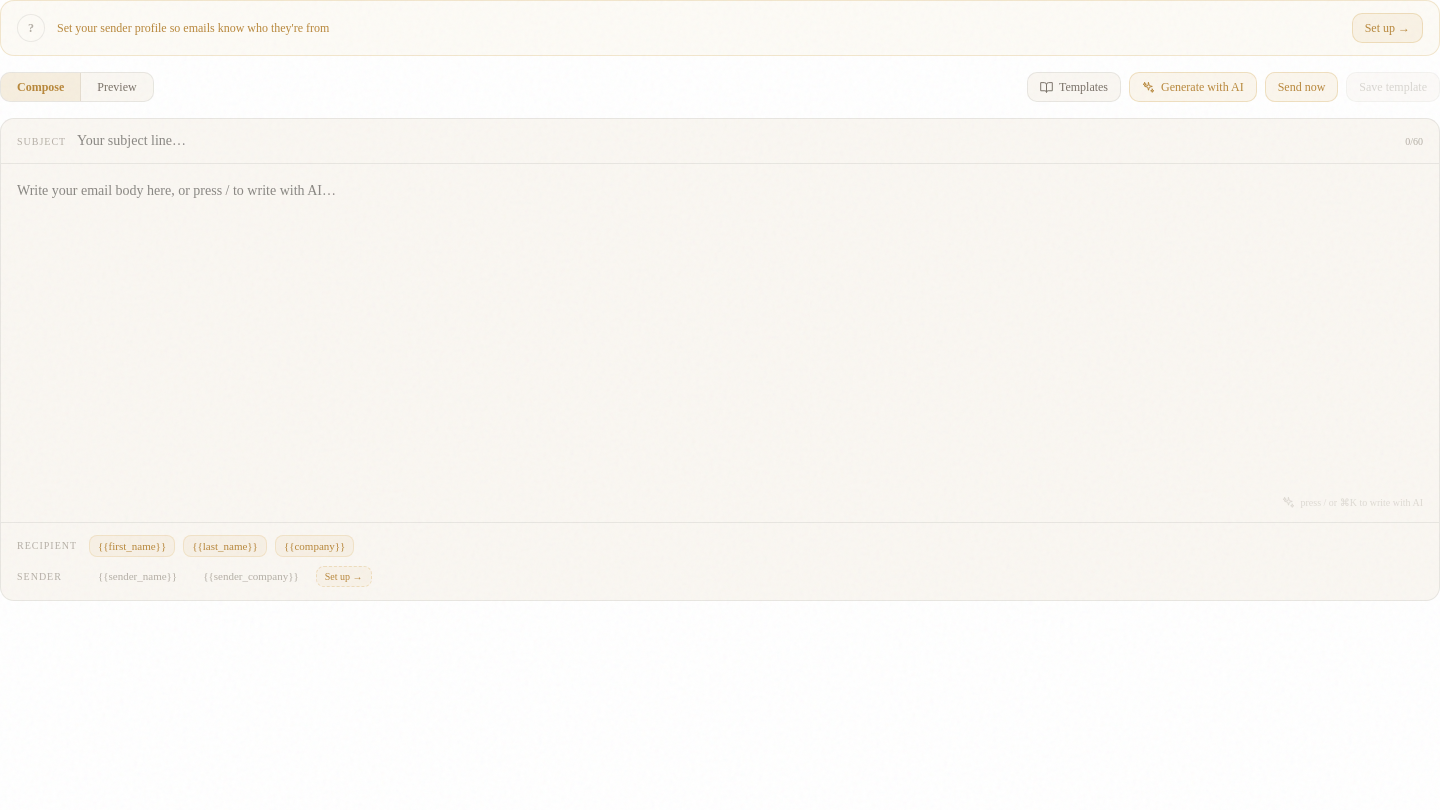
Test: EmailComposer › shows Template saved confirmation after successful save
Step 1. Type "My subject" into the field named "email subject" → (735, 141), box [77, 131, 1393, 151]
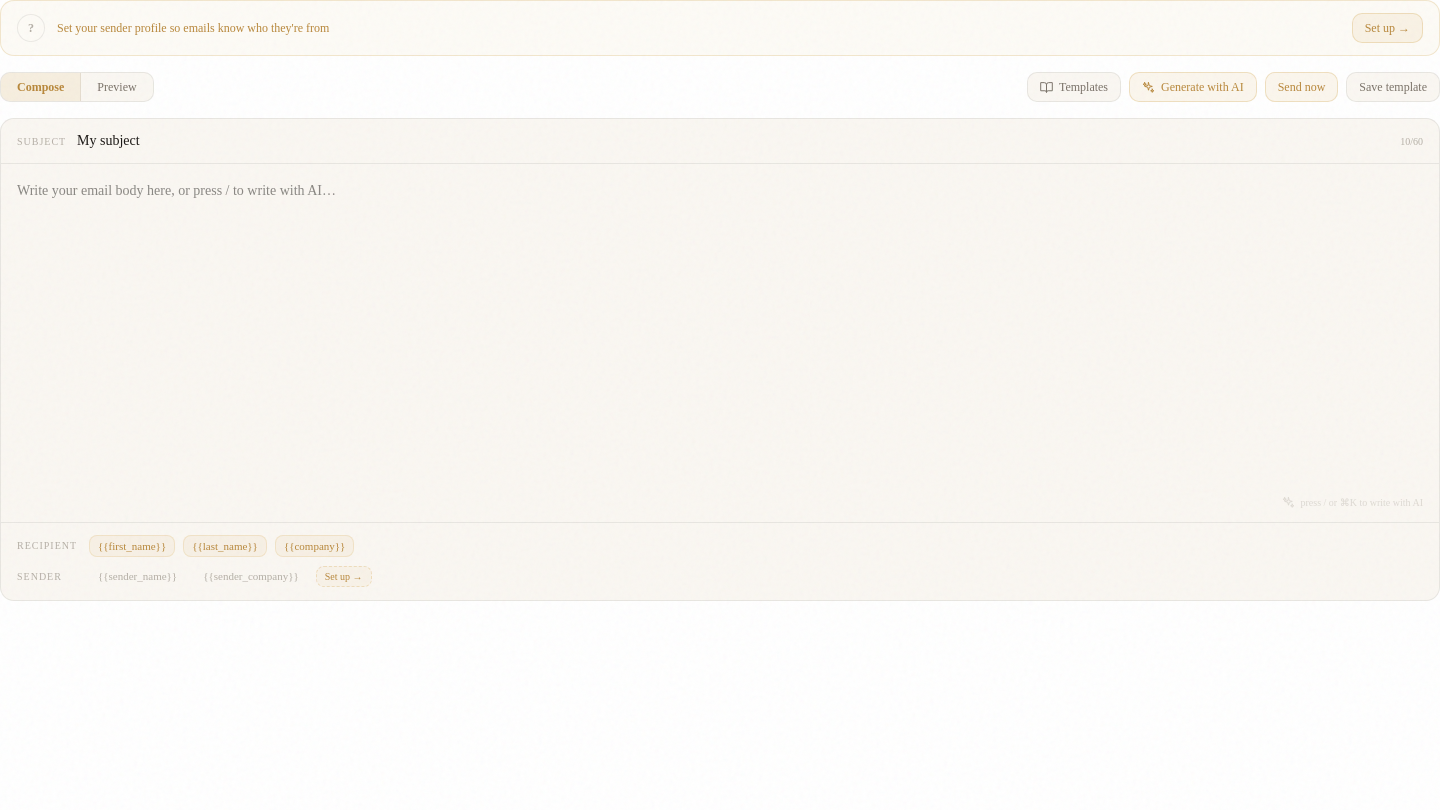
Step 2. Type "Some body text" into the text box labelled "Write your email body here, or press / to write with AI…" → (720, 339), box [1, 164, 1439, 514]
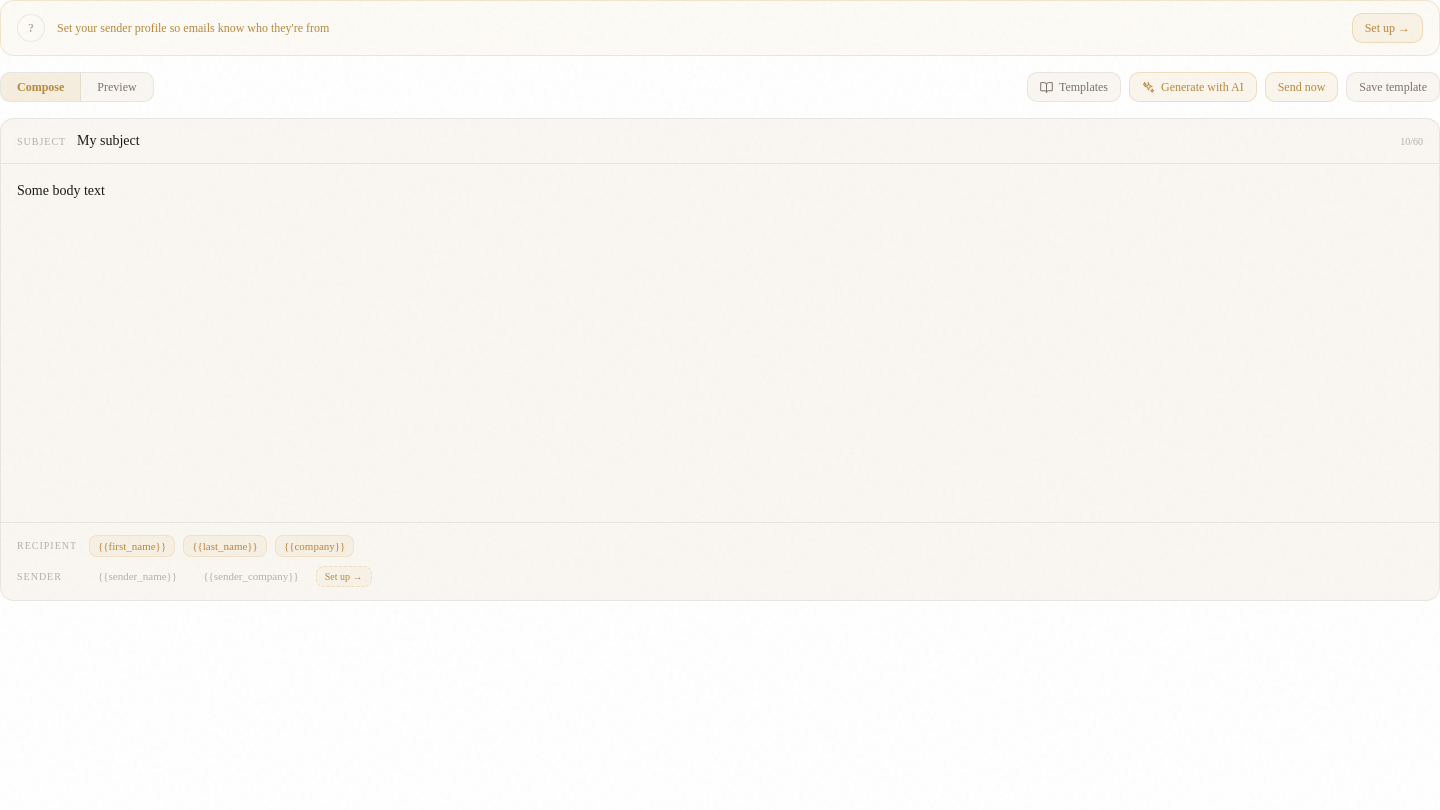
Step 3. Click the button "Save template" → (1393, 87), box [1346, 72, 1439, 102]
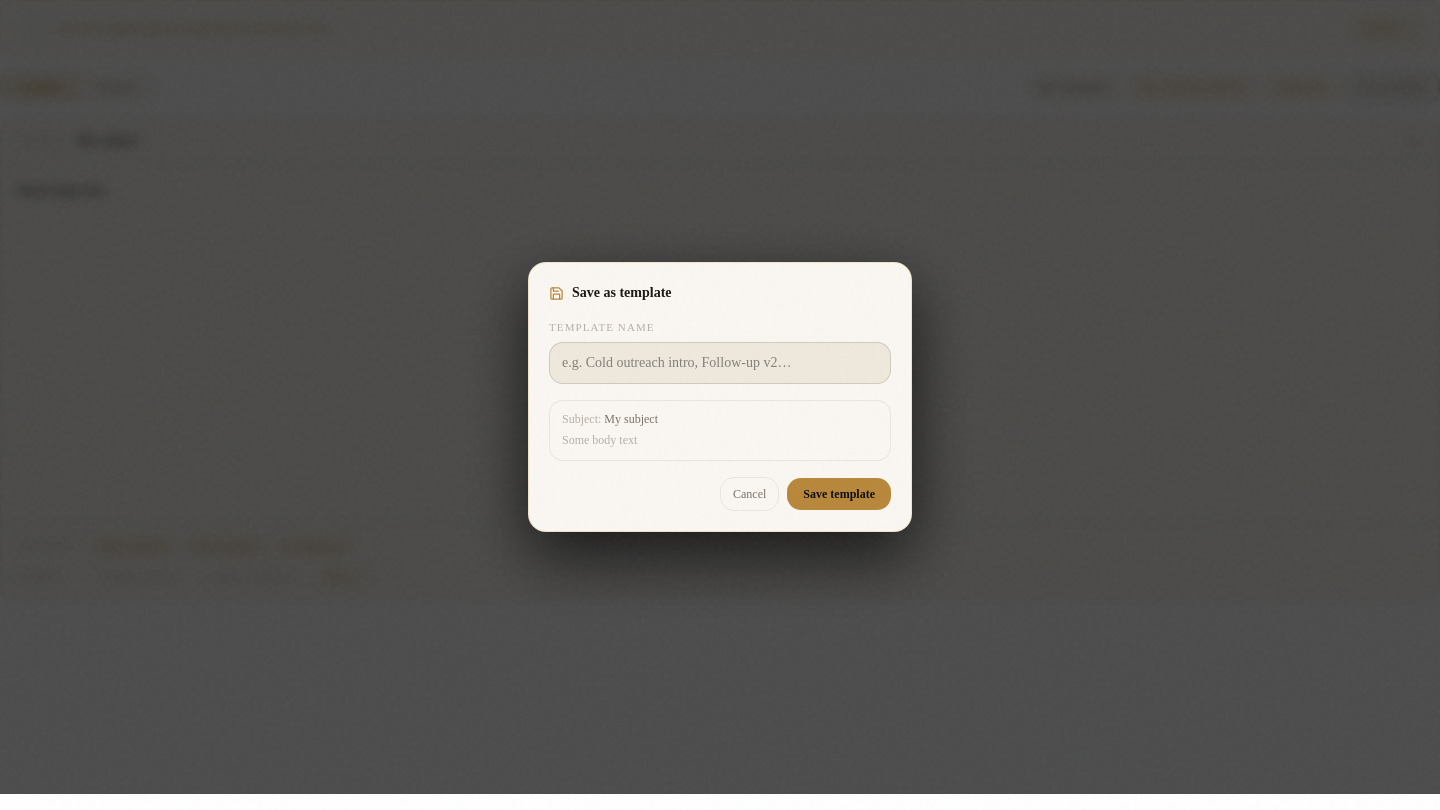
Check: the field named "template name" is shown
Step 4. Type "My Template" into the field named "template name" → (720, 362), box [549, 342, 891, 384]
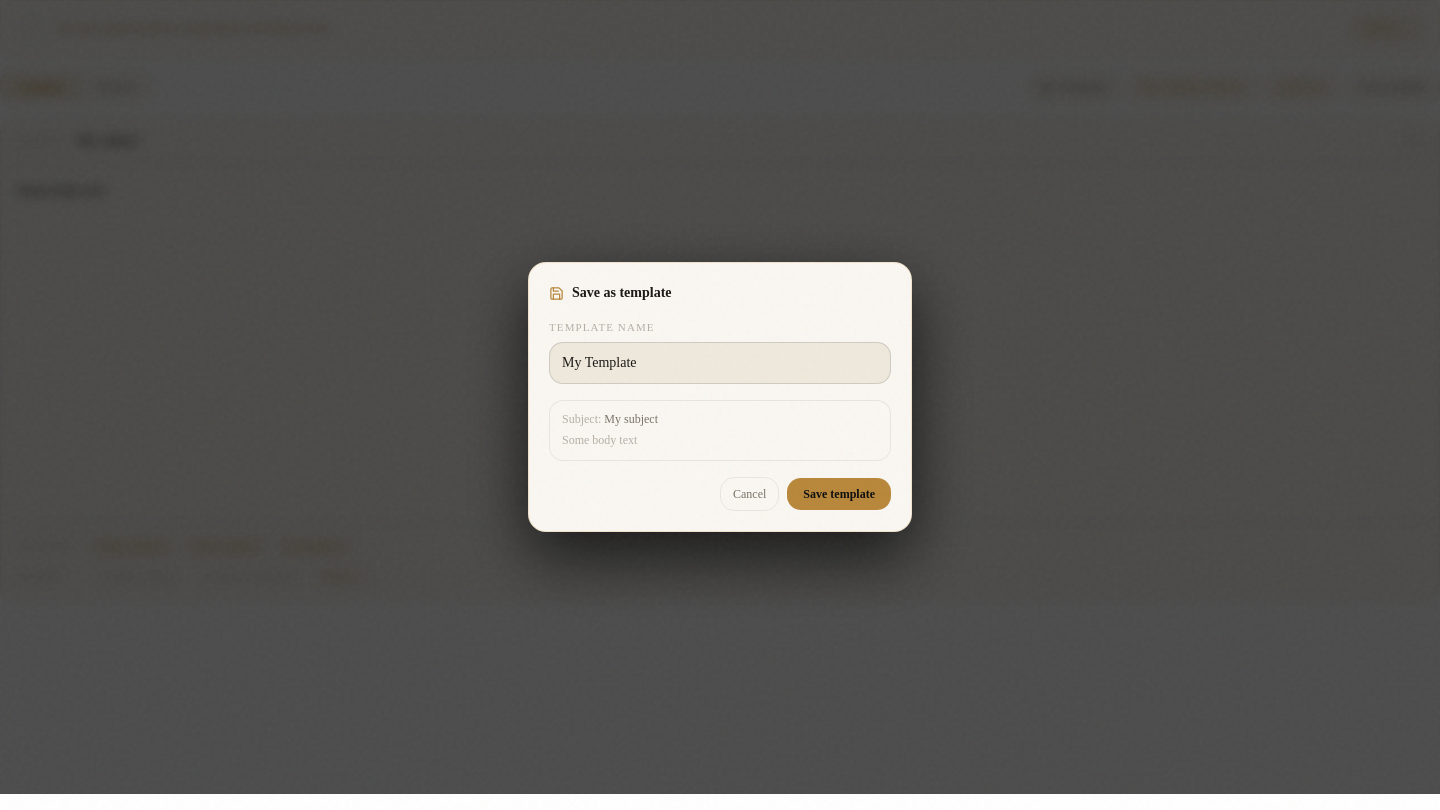
Step 5. Click the button with aria-label "confirm save template" → (839, 494), box [787, 478, 891, 510]
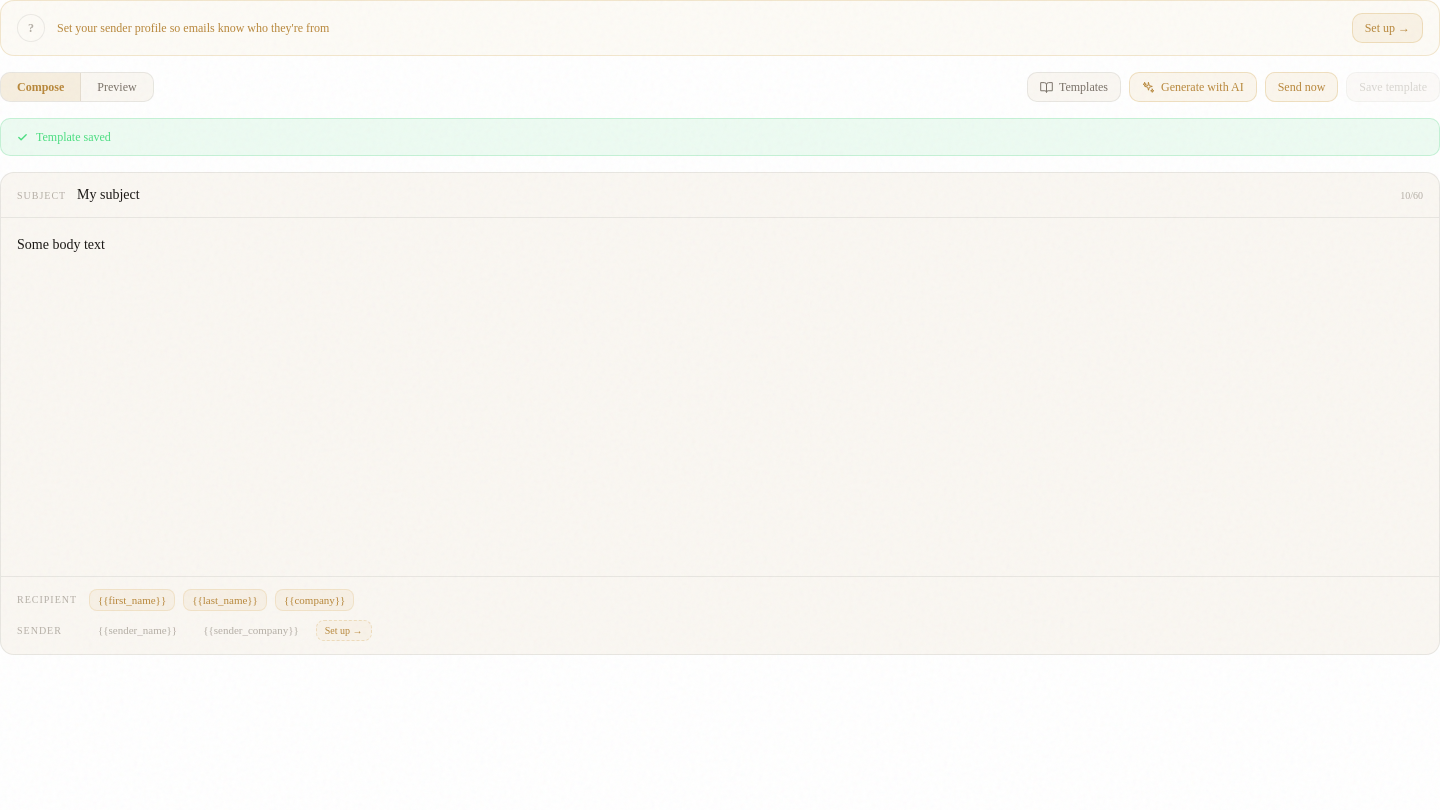
Check: the text "Template saved" is shown, box [0, 118, 1439, 156]
